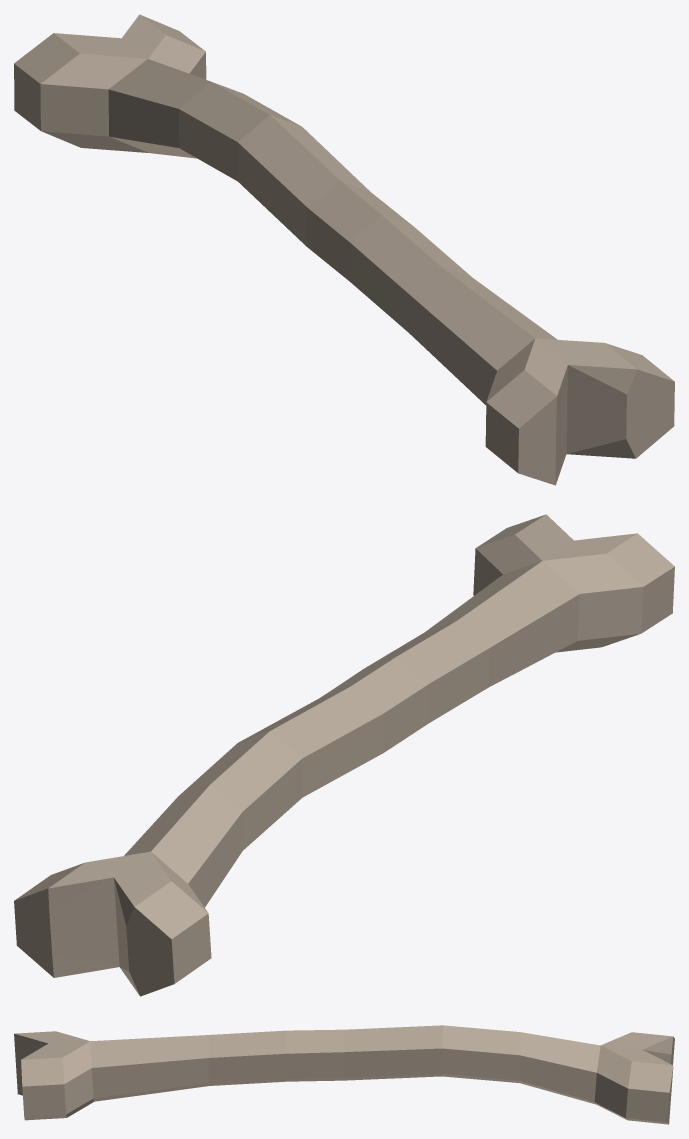
File: Bone1.fbx
3 renders of one model, top to bottom at view 1: azimuth 30°, elevation 25°; view 2: azimuth 150°, elevation 25°; view 3: azimuth 270°, elevation 25°, orthographic. The views are drawn at different scales.
Visible parts, largest first — view 1: Bone1; view 2: Bone1; view 3: Bone1.
Boxes of the visible parts, box(x1,y1,x2,y2) form: Bone1: box(14, 14, 674, 485); Bone1: box(14, 514, 674, 996); Bone1: box(14, 1025, 674, 1124).
Size of the model in its own units: 0.338 by 0.2475 by 1.73.
